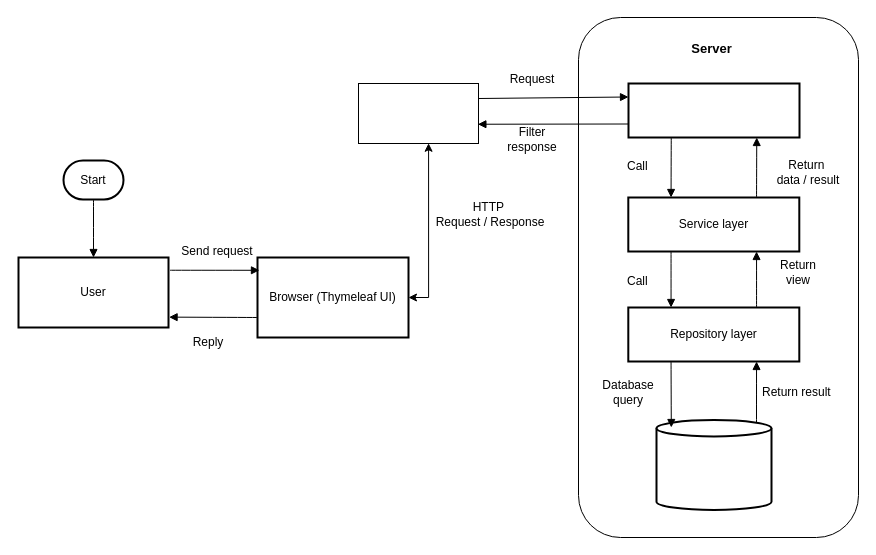
This 876x555 diagram has some shape labels left out. Each missing label, with the centre of its shape:
Controller layer: the point at 713,110
Database: the point at 713,464
Security layer / filter: the point at 418,113
